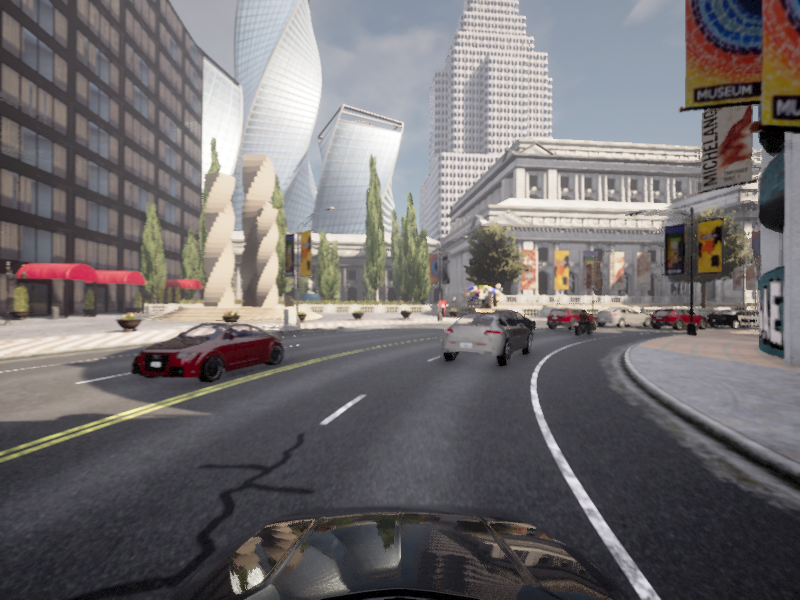vehicle: (120, 319, 290, 389), (433, 310, 535, 370), (471, 309, 540, 338), (702, 307, 777, 329), (644, 307, 712, 331), (541, 307, 601, 331), (590, 307, 654, 328), (645, 309, 713, 326), (569, 308, 599, 336)
